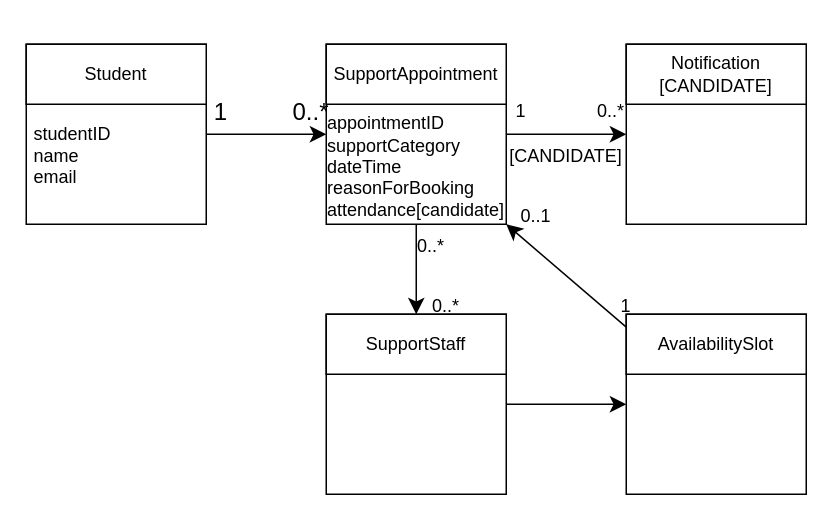
The diagram is 833 pixels wide and 521 high, and some of its shapes have lost their labels. Each missing label, with the box of its shape:
availabilityID startTime endTime isBooked isUnavailable: (625, 313, 806, 494)
notificationID sentTime appointmentTime;: (625, 43, 806, 224)
staffID name supportCategory: (325, 313, 506, 494)
